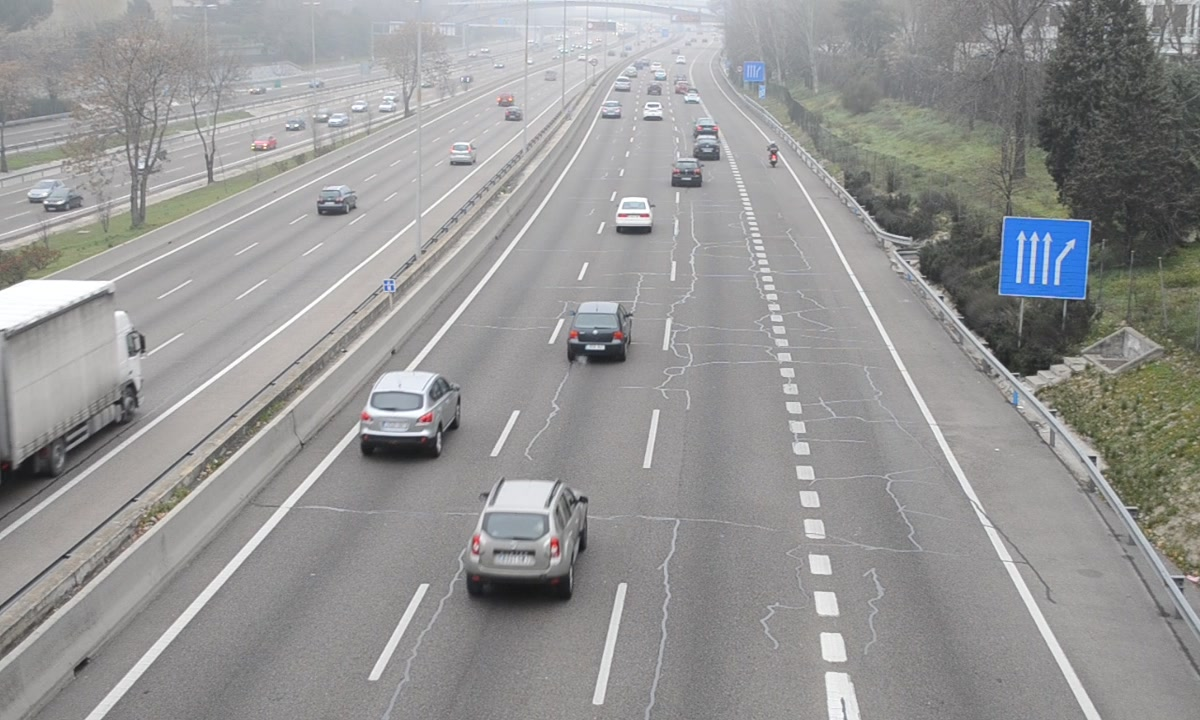car: (466, 480, 589, 584), (363, 372, 462, 442), (568, 302, 630, 356), (615, 196, 654, 230), (670, 157, 704, 189), (694, 135, 723, 159), (695, 117, 721, 138)
motorcycle: (768, 142, 781, 169)
